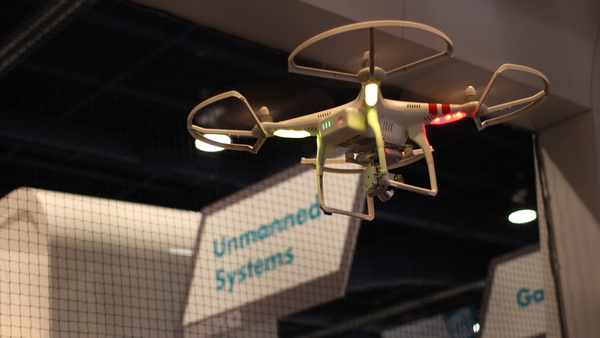drone: (185, 18, 553, 222)
